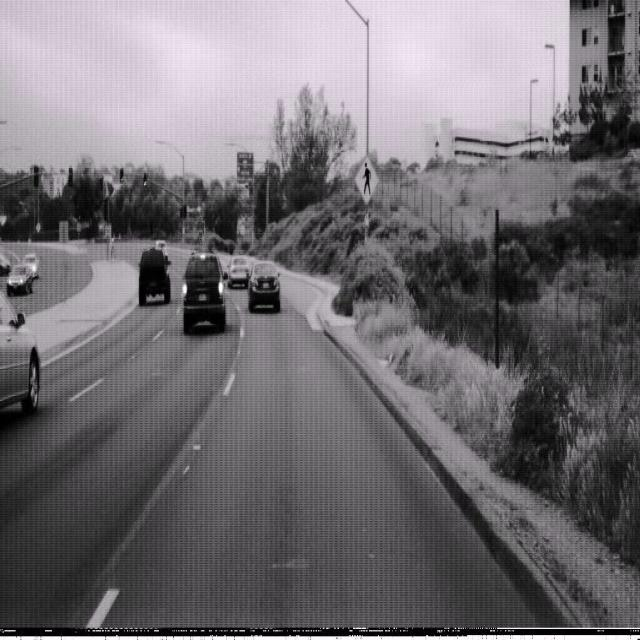pedestrianCrossing: (353, 152, 379, 205)
